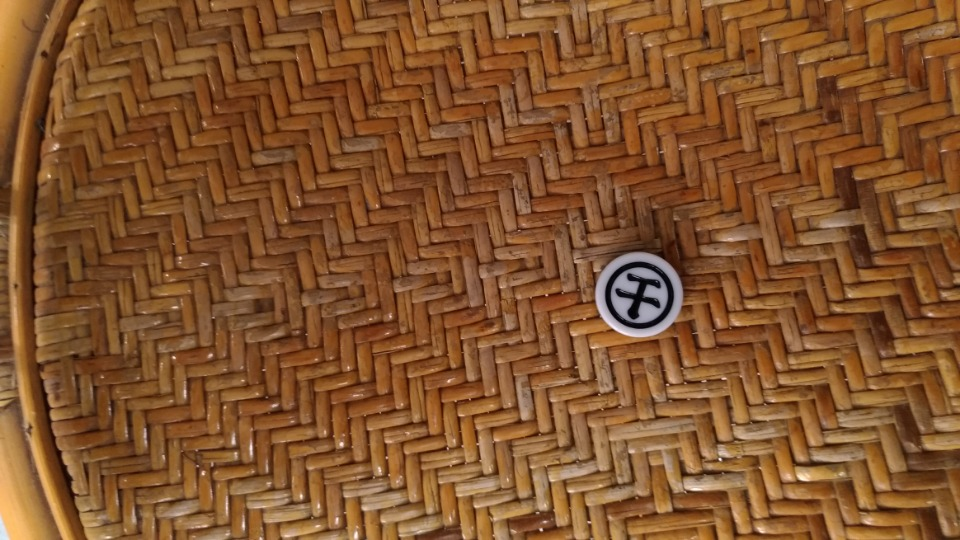b-advisor: (591, 242, 705, 346)
